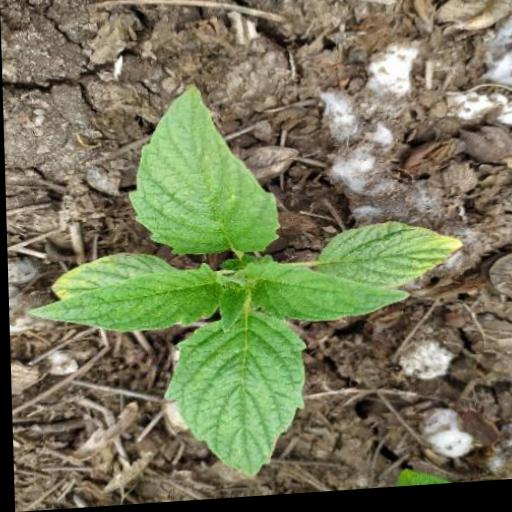crop: (24, 68, 472, 502)
